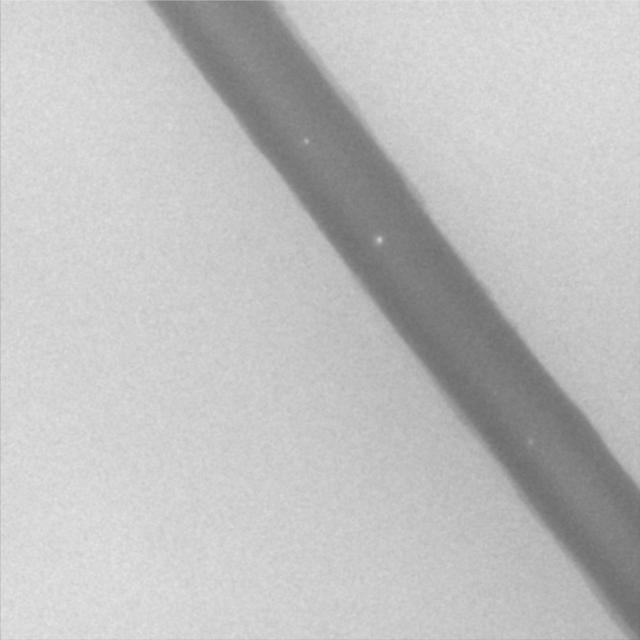air hole: (301, 137, 309, 147), (375, 234, 383, 244)
